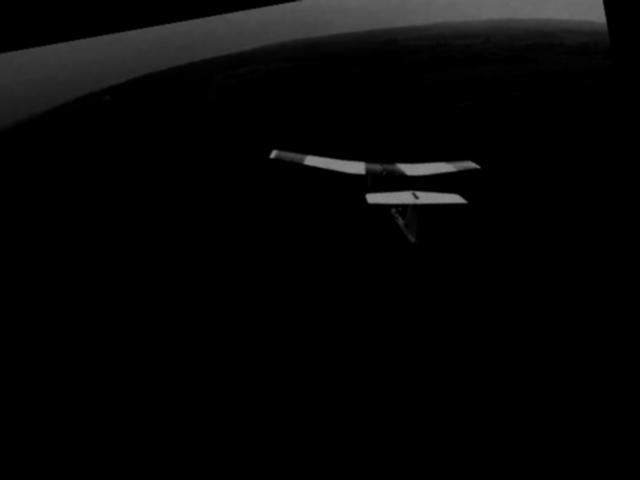hedef: (262, 92, 504, 272)
